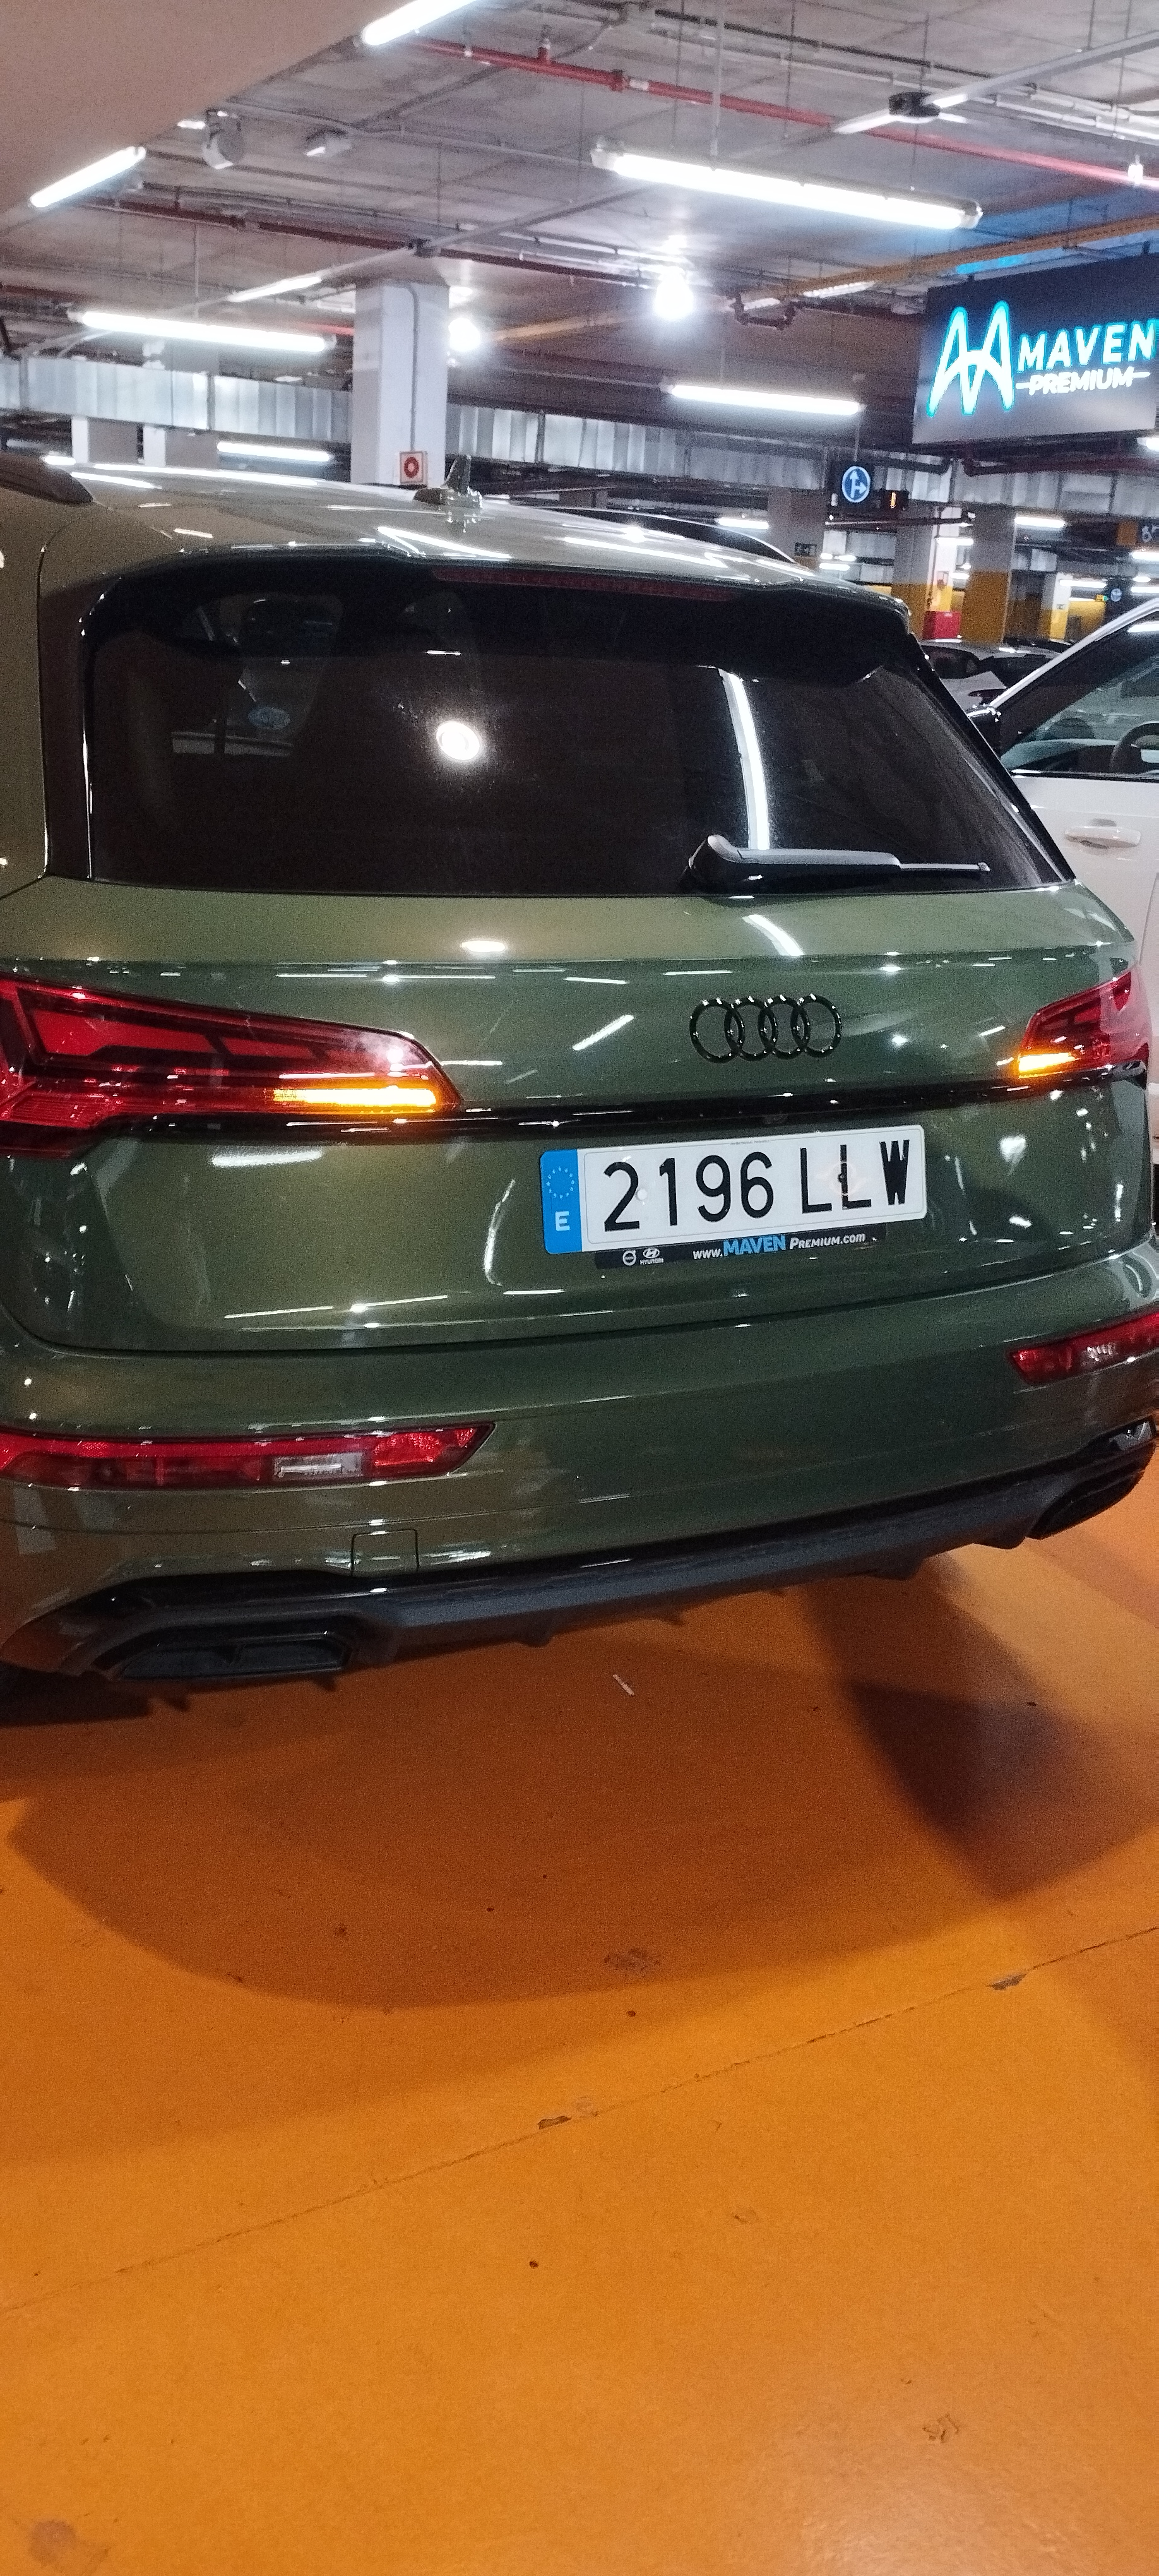Car: (0, 429, 1154, 1678)
Plate: (538, 1155, 934, 1253)
